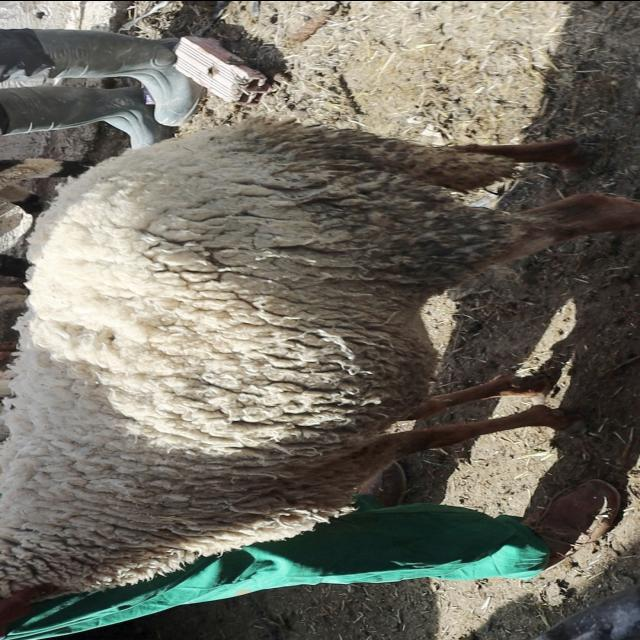Score_5: (0, 116, 639, 621)
